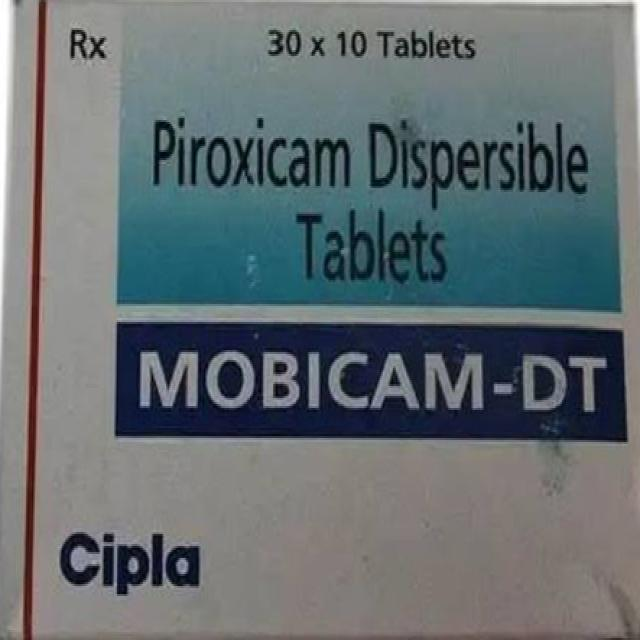drug-name: (128, 332, 612, 426)
